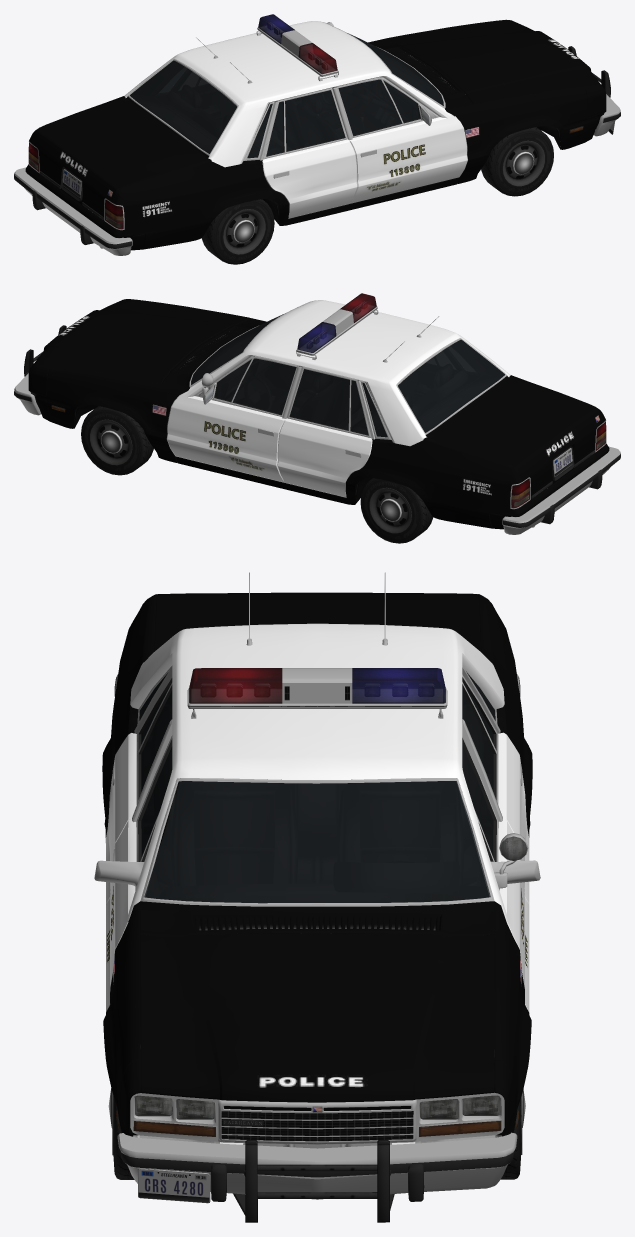
File: sk-copcruiser.glb
3 renders of one model, top to bottom at view 1: azimuth 30°, elevation 25°; view 2: azimuth 150°, elevation 25°; view 3: azimuth 270°, elevation 25°, orthographic. The views are drawn at different scales.
Visible parts, largest first — view 1: Fairheaven_LT80_Front_Plate001_Fairheaven_LT80_Bodymat_0, Fairheaven_LT80_Lightbar_Glass_UCB_Lights_and_Glass_Transper, Fairheaven_LT80_Interior001_UCB_Interior_Trim_0, Fairheaven_LT80_Lightbar_UCB_BOTTOM_GT_0, Fairheaven_LT80_WheelStamp_FL_RB1c_Tire_1k_0, Fairheaven_LT80_Brakelights001_UCB_Lights_and_Glass_0, Fairheaven_LT80_Cop_Numberplate_Rear_Numberplates_Misk_U_0; view 2: Fairheaven_LT80_Front_Plate001_Fairheaven_LT80_Bodymat_0, Fairheaven_LT80_Lightbar_Glass_UCB_Lights_and_Glass_Transper, Fairheaven_LT80_Interior001_UCB_Interior_Trim_0, Fairheaven_LT80_Lightbar_UCB_BOTTOM_GT_0, Fairheaven_LT80_WheelStamp_FL_RB1c_Tire_1k_0, Fairheaven_LT80_Brakelights001_UCB_Lights_and_Glass_0; view 3: Fairheaven_LT80_Front_Plate001_Fairheaven_LT80_Bodymat_0, Fairheaven_LT80_Lightbar_Glass_UCB_Lights_and_Glass_Transper, Fairheaven_LT80_Lightbar_UCB_BOTTOM_GT_0, Fairheaven_LT80_Interior001_UCB_Interior_Trim_0, Fairheaven_LT80_Brakelights001_UCB_Lights_and_Glass_0, Fairheaven_LT80_Cop_Numberplate_Rear_Numberplates_Misk_U_0, Fairheaven_LT80_WheelStamp_FL_RB1c_Tire_1k_0.
Boxes of the visible parts, box(x1,y1,x2,y2) form: Fairheaven_LT80_Front_Plate001_Fairheaven_LT80_Bodymat_0: box(25, 19, 606, 250); Fairheaven_LT80_Lightbar_Glass_UCB_Lights_and_Glass_Transper: box(28, 14, 443, 227); Fairheaven_LT80_Interior001_UCB_Interior_Trim_0: box(130, 45, 443, 157); Fairheaven_LT80_Lightbar_UCB_BOTTOM_GT_0: box(14, 22, 620, 255); Fairheaven_LT80_WheelStamp_FL_RB1c_Tire_1k_0: box(201, 127, 553, 264); Fairheaven_LT80_Brakelights001_UCB_Lights_and_Glass_0: box(28, 145, 123, 229); Fairheaven_LT80_Cop_Numberplate_Rear_Numberplates_Misk_U_0: box(62, 121, 615, 198); Fairheaven_LT80_Front_Plate001_Fairheaven_LT80_Bodymat_0: box(28, 299, 609, 529); Fairheaven_LT80_Lightbar_Glass_UCB_Lights_and_Glass_Transper: box(191, 293, 606, 506); Fairheaven_LT80_Interior001_UCB_Interior_Trim_0: box(192, 324, 504, 436); Fairheaven_LT80_Lightbar_UCB_BOTTOM_GT_0: box(14, 301, 620, 534); Fairheaven_LT80_WheelStamp_FL_RB1c_Tire_1k_0: box(81, 406, 433, 543); Fairheaven_LT80_Brakelights001_UCB_Lights_and_Glass_0: box(511, 424, 606, 508); Fairheaven_LT80_Front_Plate001_Fairheaven_LT80_Bodymat_0: box(102, 592, 532, 1148); Fairheaven_LT80_Lightbar_Glass_UCB_Lights_and_Glass_Transper: box(133, 668, 501, 1136); Fairheaven_LT80_Lightbar_UCB_BOTTOM_GT_0: box(94, 572, 540, 1222); Fairheaven_LT80_Interior001_UCB_Interior_Trim_0: box(140, 676, 494, 903); Fairheaven_LT80_Brakelights001_UCB_Lights_and_Glass_0: box(135, 1096, 499, 1119); Fairheaven_LT80_Cop_Numberplate_Rear_Numberplates_Misk_U_0: box(138, 1168, 210, 1203); Fairheaven_LT80_WheelStamp_FL_RB1c_Tire_1k_0: box(108, 1088, 525, 1179).
Size of the model in its own units: 5.07 by 1.57 by 1.83.
8 materials, 8 textured.
